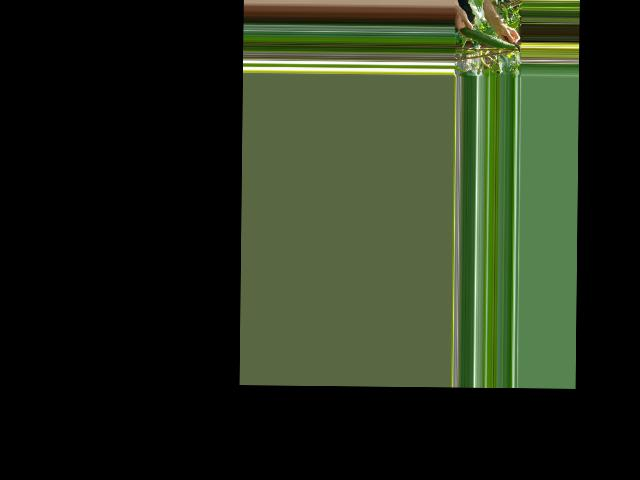cucumber: (459, 27, 514, 49)
